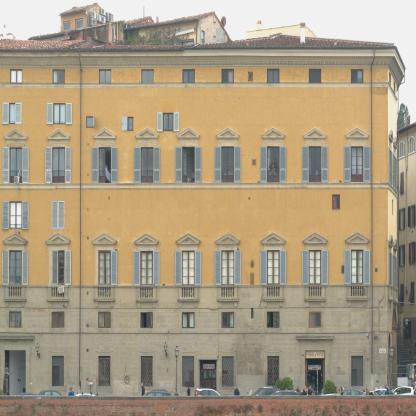Building Outline: (0, 22, 406, 403)
Cornice: (2, 232, 28, 245), (45, 232, 71, 245), (260, 232, 286, 244), (92, 232, 117, 244), (134, 233, 159, 245), (46, 128, 71, 140), (4, 128, 28, 140), (93, 127, 117, 139), (344, 232, 370, 243), (175, 233, 201, 244), (302, 232, 328, 243), (215, 233, 240, 244), (345, 127, 369, 138), (135, 127, 159, 138), (176, 127, 200, 138), (261, 127, 285, 138), (303, 127, 327, 138), (216, 127, 239, 138), (296, 335, 334, 341), (0, 335, 35, 341)
Deco: (124, 375, 130, 386), (248, 72, 253, 82), (375, 268, 378, 272)
Door: (5, 350, 26, 402), (198, 360, 217, 402)
Facade: (0, 22, 406, 402)
Floor Slab: (0, 91, 387, 96), (0, 297, 387, 302), (0, 232, 387, 237), (0, 184, 387, 189), (0, 138, 387, 143), (0, 342, 387, 347)
Ground Floor: (0, 236, 387, 302), (0, 347, 387, 402), (0, 189, 387, 237), (0, 142, 387, 189), (0, 96, 387, 143), (0, 302, 387, 347)
Molding: (0, 60, 391, 68)
Roof: (0, 32, 395, 52)
Shop: (305, 350, 325, 359)
Sill: (4, 296, 27, 308), (135, 297, 158, 309), (46, 297, 70, 308), (346, 296, 368, 308), (93, 297, 116, 308), (177, 297, 200, 308), (216, 297, 239, 308), (262, 297, 284, 308), (304, 297, 326, 308)
Top Floor: (0, 56, 387, 95)
Window: (305, 359, 325, 399), (267, 147, 280, 183), (221, 147, 234, 183), (182, 147, 195, 183), (52, 147, 65, 183), (351, 250, 364, 285), (98, 250, 111, 285), (52, 250, 65, 285), (9, 250, 22, 285), (182, 250, 195, 285), (10, 147, 22, 183), (351, 147, 363, 183), (309, 147, 321, 183), (141, 147, 153, 183), (99, 147, 111, 183), (309, 250, 321, 285), (267, 250, 279, 285), (222, 250, 234, 285), (141, 250, 153, 285), (268, 356, 280, 389), (222, 356, 234, 387), (183, 356, 195, 387), (9, 201, 22, 229), (52, 356, 64, 386), (99, 356, 111, 386), (141, 356, 153, 386), (352, 356, 364, 386), (52, 201, 64, 229), (10, 103, 22, 124), (54, 103, 66, 124), (221, 312, 234, 328), (9, 312, 22, 328), (182, 313, 195, 329), (140, 312, 153, 328), (98, 312, 111, 328), (309, 312, 321, 328), (267, 312, 279, 328), (52, 312, 64, 328), (182, 70, 195, 84), (10, 69, 22, 84), (53, 69, 65, 84), (99, 69, 111, 84), (142, 69, 154, 84), (163, 113, 173, 131), (351, 69, 363, 83), (267, 69, 279, 83), (309, 69, 321, 83), (222, 69, 234, 83), (332, 195, 340, 210), (86, 117, 94, 128), (128, 117, 134, 131)
